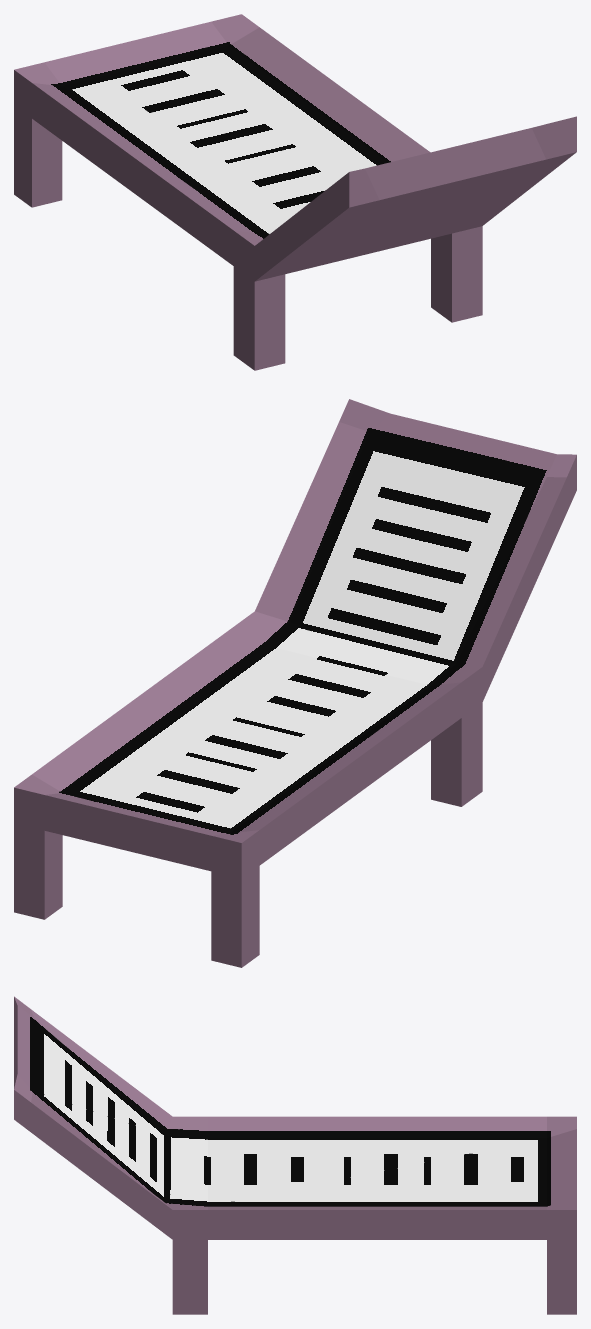
File: lounger.glb
The picture shows the model from 3 angles, top to bottom: view 1: azimuth 30°, elevation 25°; view 2: azimuth 150°, elevation 25°; view 3: azimuth 270°, elevation 25°; orthographic projection. The views are drawn at different scales.
Visible parts, largest first — view 1: lounger; view 2: lounger; view 3: lounger.
Boxes of the visible parts, x1=… form: lounger: x1=14, y1=14, x2=576, y2=370; lounger: x1=14, y1=399, x2=576, y2=967; lounger: x1=14, y1=996, x2=576, y2=1314.
Bounding box in the file's own units: 2 × 2.25 × 5.1.
Materials: 1 (1 with a texture image).
